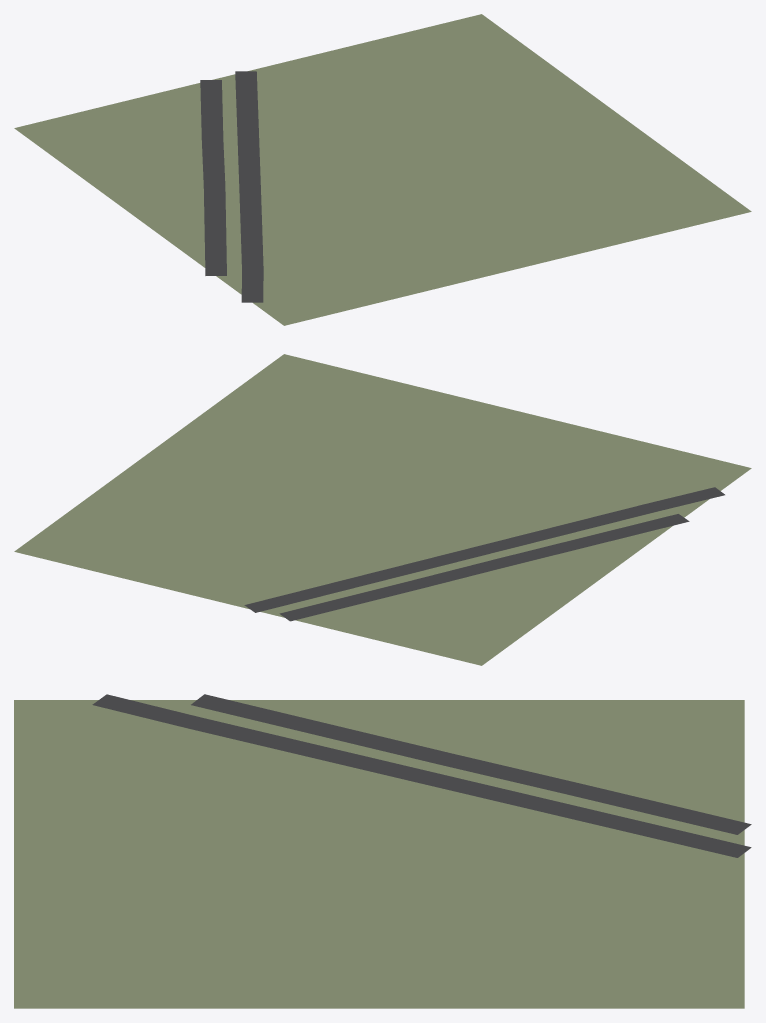
3 renders of one model, top to bottom at view 1: azimuth 30°, elevation 25°; view 2: azimuth 150°, elevation 25°; view 3: azimuth 270°, elevation 25°, orthographic. The views are drawn at different scales.
Parts seen in each view (by area): view 1: ground, road; view 2: ground, road; view 3: ground, road.
Boxes of the visible parts, <box> form: ground: <box>14,14,751,325</box>; road: <box>200,71,263,302</box>; ground: <box>14,354,751,665</box>; road: <box>244,487,724,621</box>; ground: <box>14,700,744,1008</box>; road: <box>92,694,751,857</box>.
Size of the model in its own units: 254 by 0.12 by 252.
